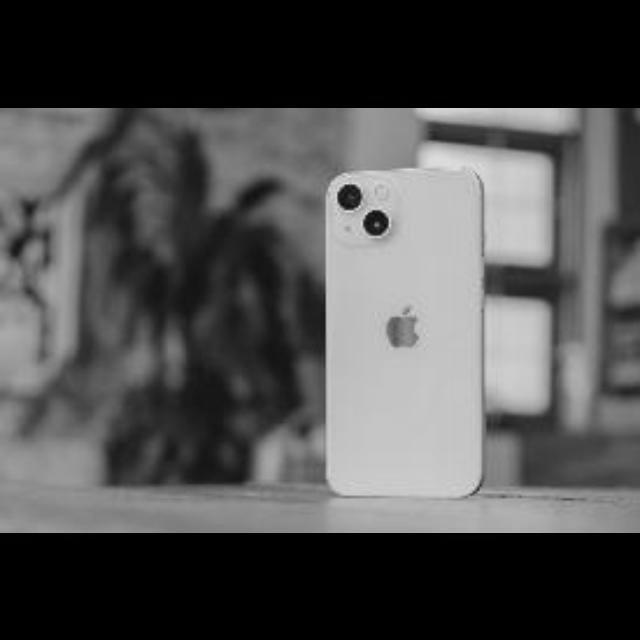fake: (300, 144, 502, 516)
